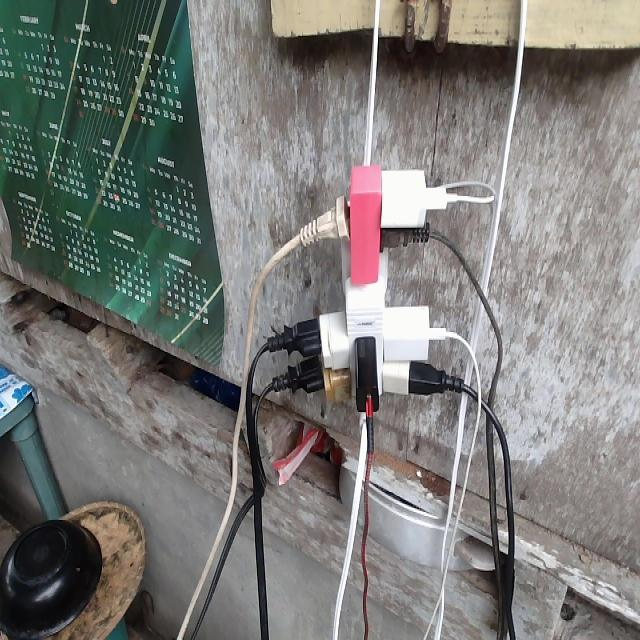-: (284, 160, 455, 411)
